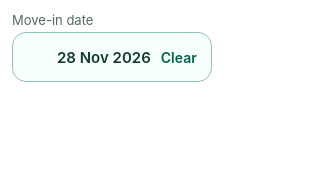
Test: an optional empty date can be chosen, then cleared
Earlier steps of the test are not shown.
What coordinates should you click on to do the following:
click the button with aria-label "Clear Move-in date"
I would click on:
 (179, 57)
Its box is [161,48,197,66].
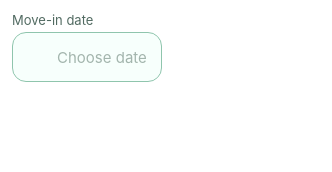
Expected: the button with aria-label "Move-in date: not set" is shown, [12,32,162,82]
